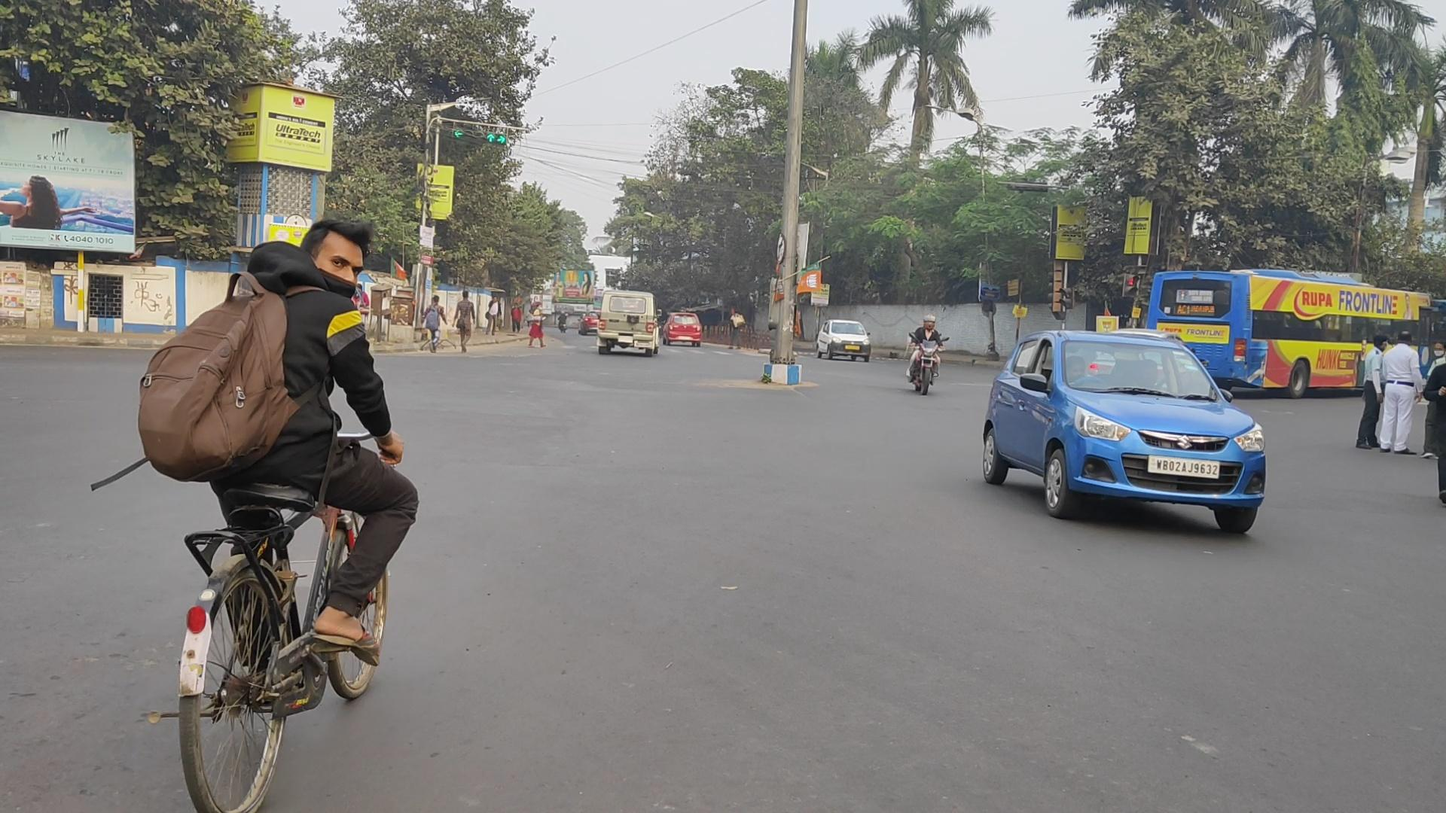Bus: (1146, 268, 1441, 400)
bike: (136, 219, 419, 813), (905, 314, 950, 396)
car: (982, 329, 1267, 535), (596, 290, 663, 357), (815, 319, 872, 363), (663, 312, 703, 349), (577, 309, 602, 336)
